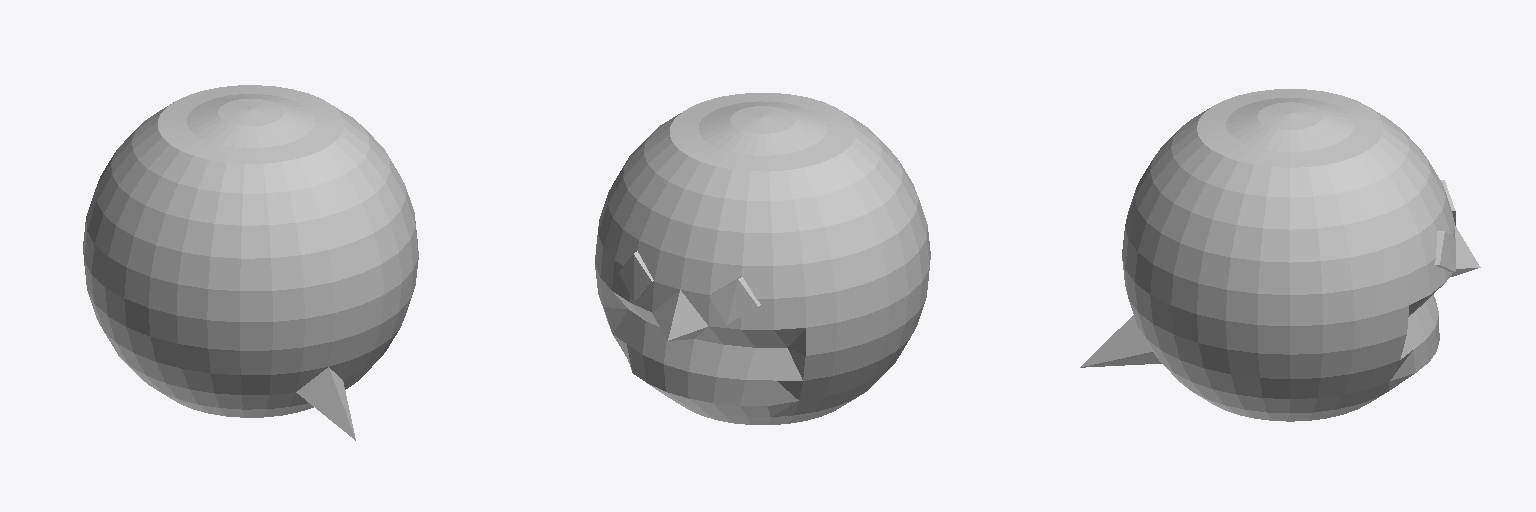
The model's file is enemy.obj.
3 renders of one model, left to right at view 1: azimuth 30°, elevation 25°; view 2: azimuth 150°, elevation 25°; view 3: azimuth 270°, elevation 25°, orthographic.
Parts seen in each view (by area): view 1: 立方体.001; view 2: 立方体.001; view 3: 立方体.001.
Part boxes in pixels (bbox=[...]): 立方体.001: bbox=[83, 85, 418, 440]; 立方体.001: bbox=[595, 93, 930, 424]; 立方体.001: bbox=[1080, 89, 1480, 421].
Size of the model in its own units: 1.57 by 1.47 by 1.87.